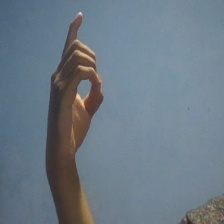D: (41, 10, 108, 161)
